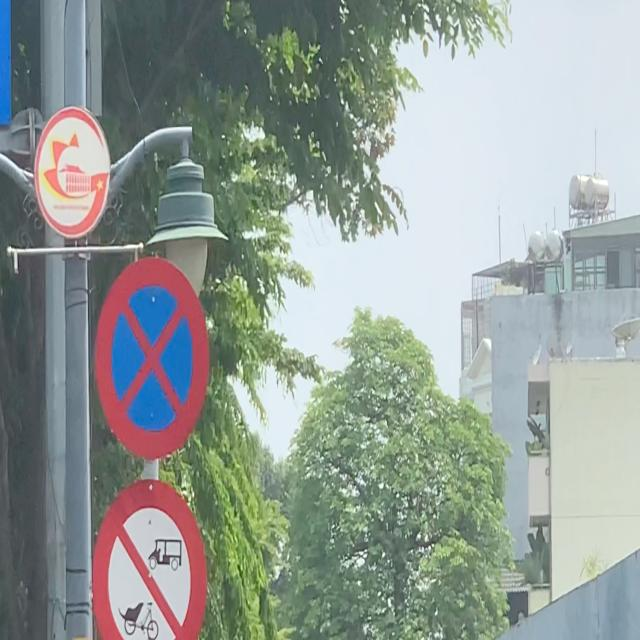Cam dung va do: (90, 252, 213, 464)
